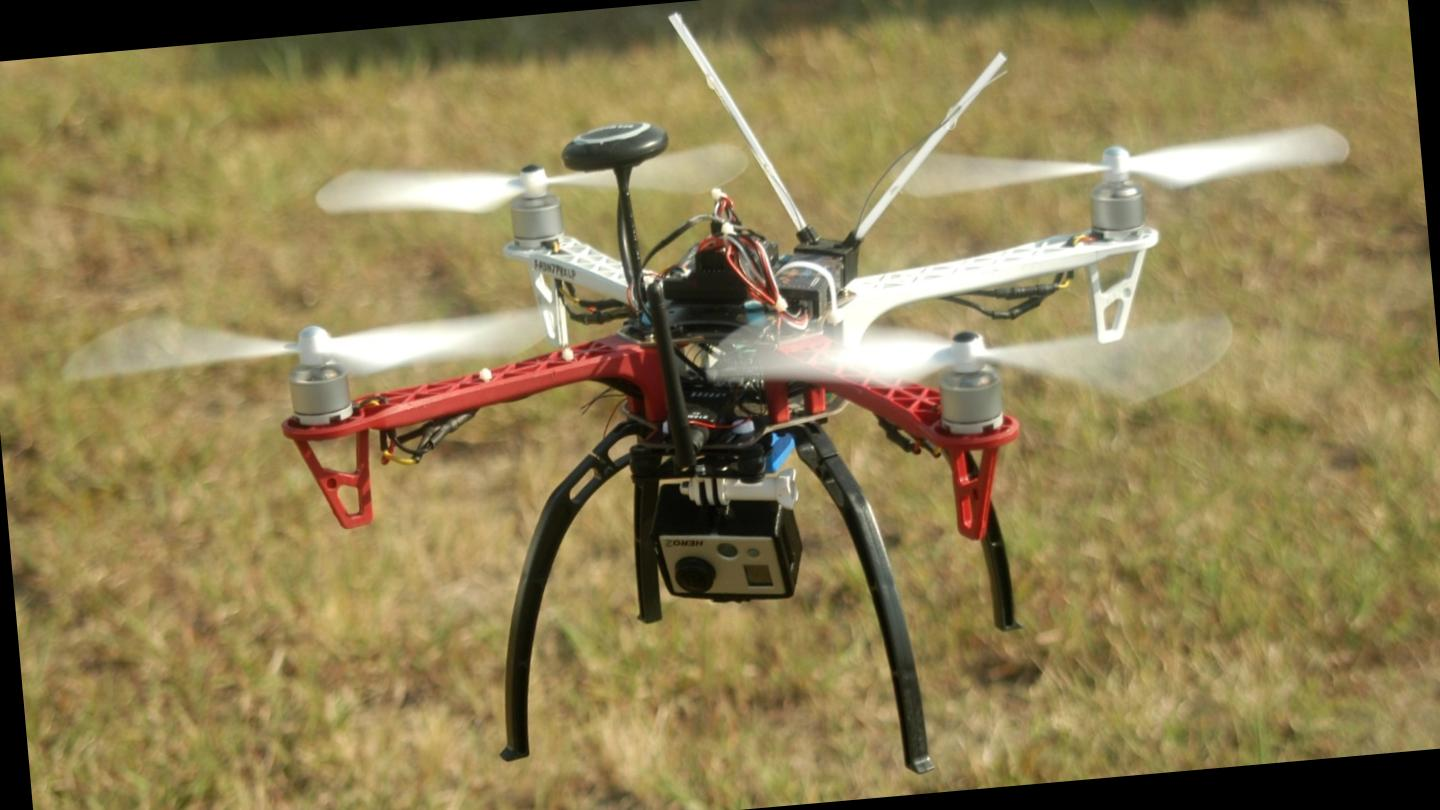drone: (90, 20, 1418, 710)
